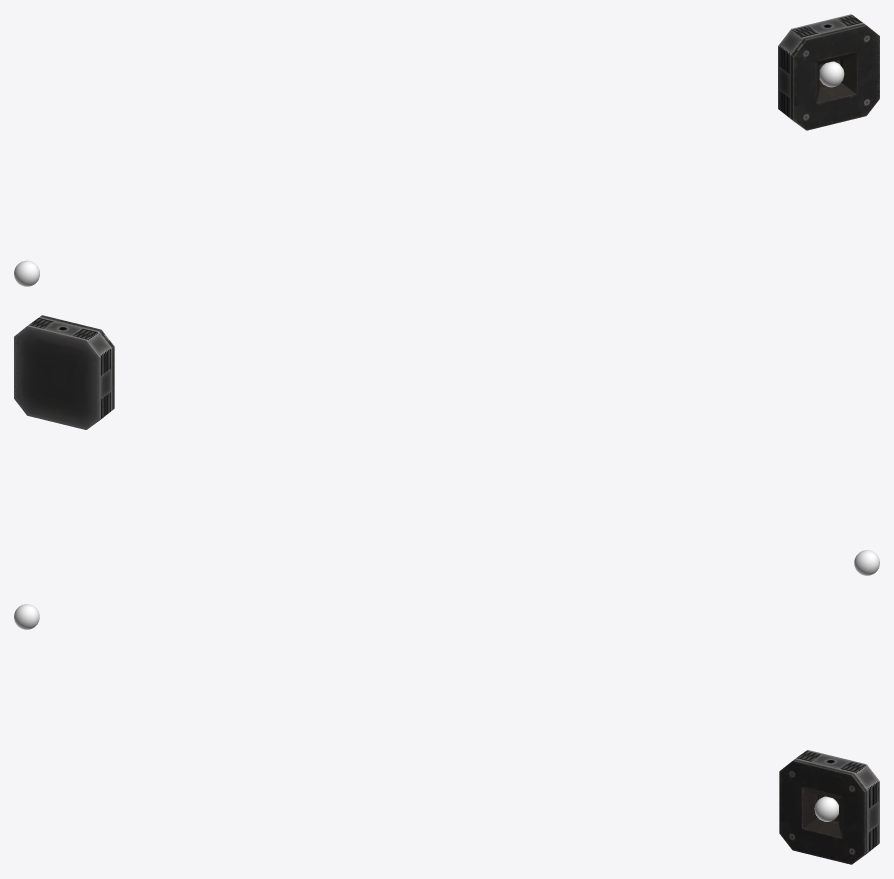
File: laserdetector.glb
3 renders of one model, top to bottom at view 1: azimuth 30°, elevation 25°; view 2: azimuth 150°, elevation 25°; view 3: azimuth 330°, elevation 25°, orthographic.
Parts seen in each view (by area): view 1: LaserDetector_LOD0, dot; view 2: LaserDetector_LOD0, dot; view 3: LaserDetector_LOD0, dot.
Part boxes in pixels (bbox=[...]): LaserDetector_LOD0: bbox=[778, 14, 879, 130]; dot: bbox=[14, 260, 39, 286]; LaserDetector_LOD0: bbox=[14, 315, 114, 429]; dot: bbox=[854, 550, 879, 575]; LaserDetector_LOD0: bbox=[779, 750, 879, 864]; dot: bbox=[14, 604, 39, 629].
Size of the model in its own units: 0.7611 by 0.0766 by 0.0304.
2 materials, 1 textured.
